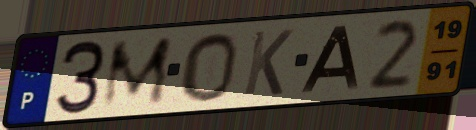2: (367, 17, 421, 92)
3: (51, 36, 109, 117)
A: (298, 24, 362, 95)
K: (240, 27, 297, 97)
M: (97, 34, 176, 112)
O: (179, 30, 240, 104)
